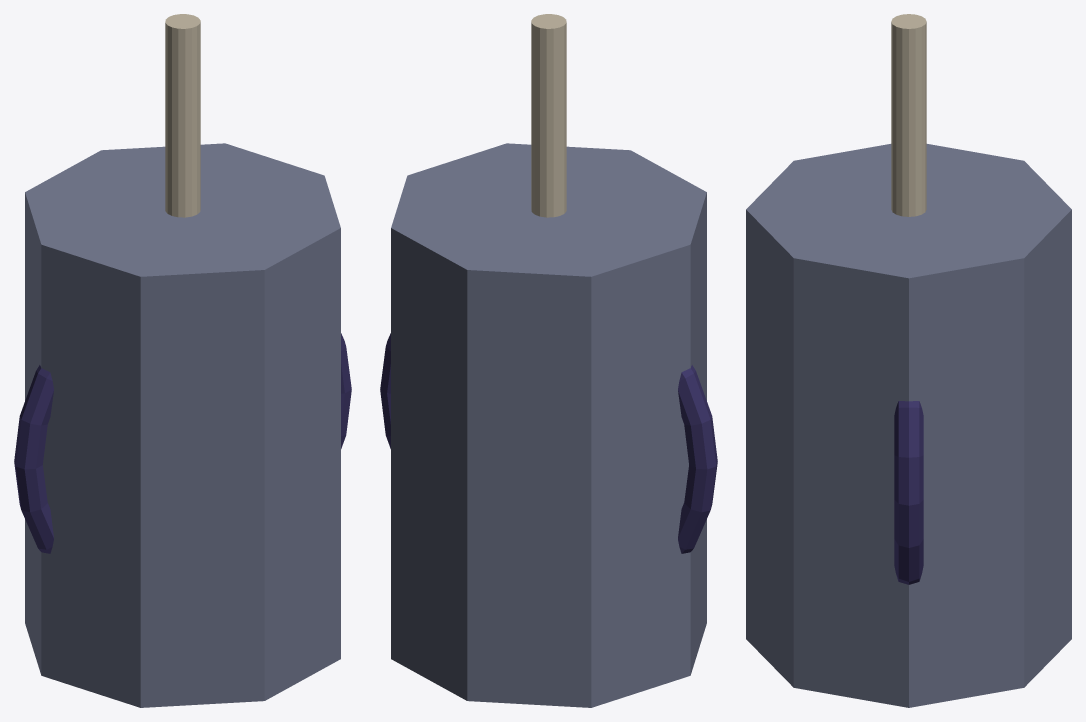
The model's file is warden-lantern.glb.
The picture shows the model from 3 angles, left to right: view 1: azimuth 30°, elevation 25°; view 2: azimuth 150°, elevation 25°; view 3: azimuth 270°, elevation 25°; orthographic projection.
Visible parts, largest first — view 1: wardenlantern-body, wardenlantern-handle, wardenlantern-cage-ring; view 2: wardenlantern-body, wardenlantern-handle, wardenlantern-cage-ring; view 3: wardenlantern-body, wardenlantern-handle, wardenlantern-cage-ring.
Boxes of the visible parts, box(x1,y1,x2,y2) form: wardenlantern-body: box(25, 143, 340, 707); wardenlantern-handle: box(165, 14, 200, 217); wardenlantern-cage-ring: box(14, 333, 351, 553); wardenlantern-body: box(391, 143, 706, 707); wardenlantern-handle: box(531, 14, 566, 217); wardenlantern-cage-ring: box(380, 333, 717, 553); wardenlantern-body: box(746, 144, 1071, 707); wardenlantern-handle: box(891, 14, 926, 216); wardenlantern-cage-ring: box(894, 401, 923, 584).
Bounding box in the file's own units: 0.26 × 0.46 × 0.22.
